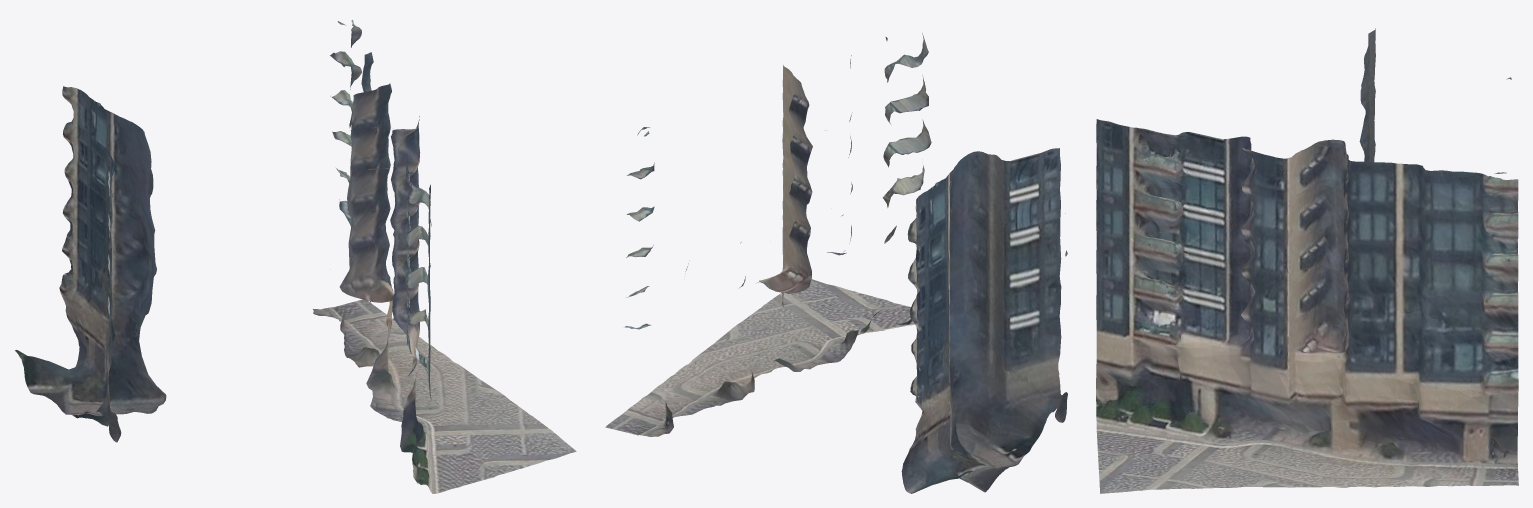
File: Tile_+012_+009_L21_0000023300.glb
The picture shows the model from 3 angles, left to right: view 1: azimuth 30°, elevation 25°; view 2: azimuth 150°, elevation 25°; view 3: azimuth 270°, elevation 25°; orthographic projection. The views are drawn at different scales.
Parts seen in each view (by area): view 1: rtc; view 2: rtc; view 3: rtc.
Part boxes in pixels (bbox=[...]): rtc: bbox=[15, 20, 576, 493]; rtc: bbox=[605, 33, 1067, 493]; rtc: bbox=[1096, 28, 1518, 493].
Bounding box in the file's own units: 32.01 × 25.39 × 31.65.
Materials: 1 (1 with a texture image).
